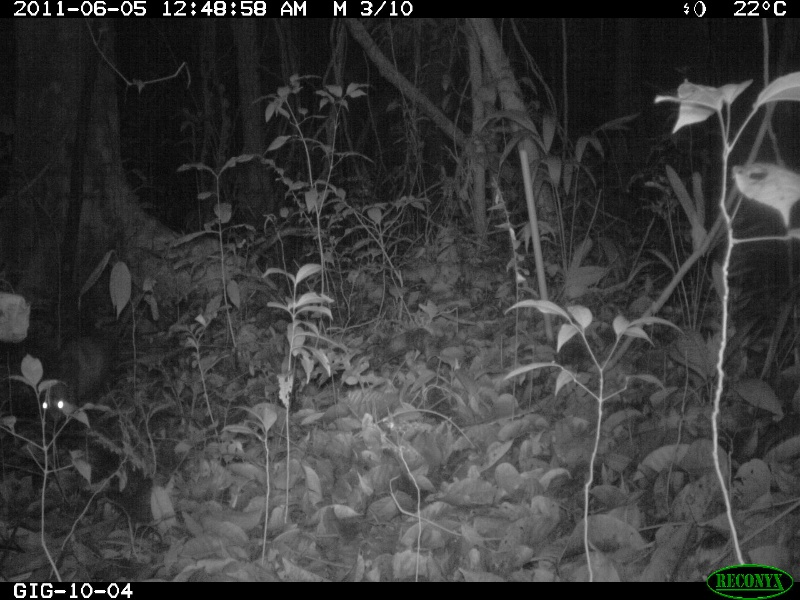opossum: (40, 323, 125, 428)
